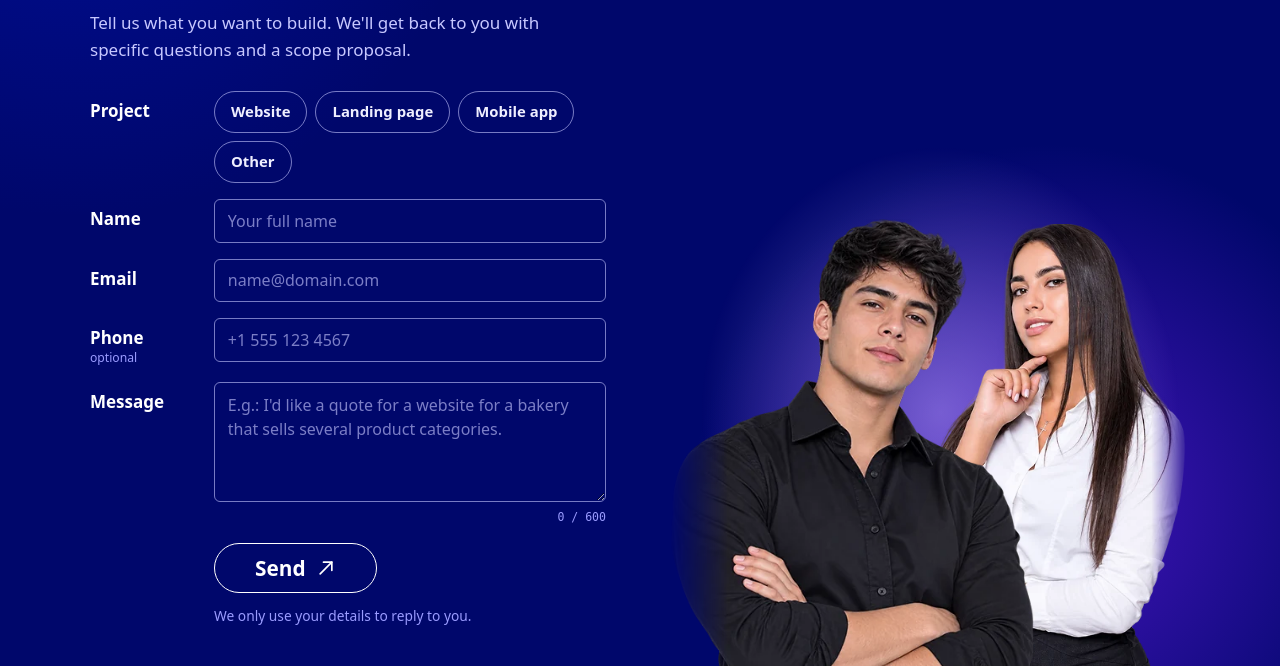
Test: formulario de contacto › en inglés › los errores de validación salen en inglés
The width and height of the screenshot is (1280, 666).
(page scrolled)
Click the button "Send".
click(295, 568)  # box [214,543,377,593]
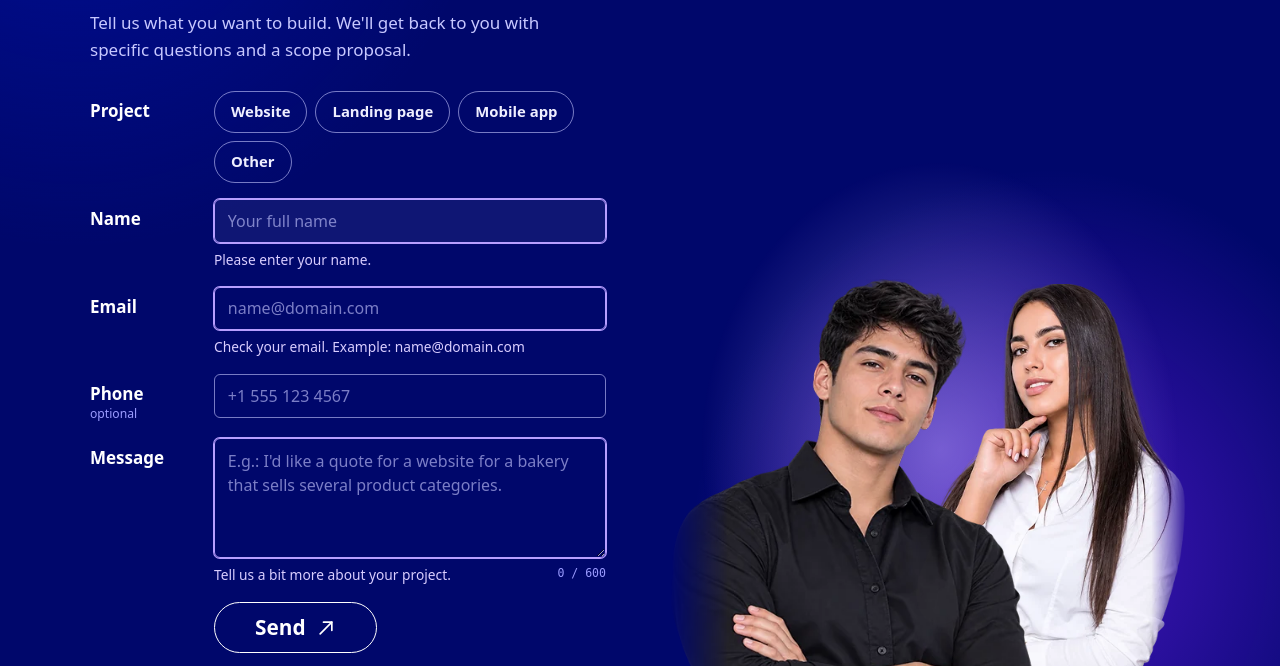
Expected: the text "Please enter your name." is shown, [214,248,371,270]
Expected: the text "Tell us a bit more about your project." is shown, [214,564,451,586]
